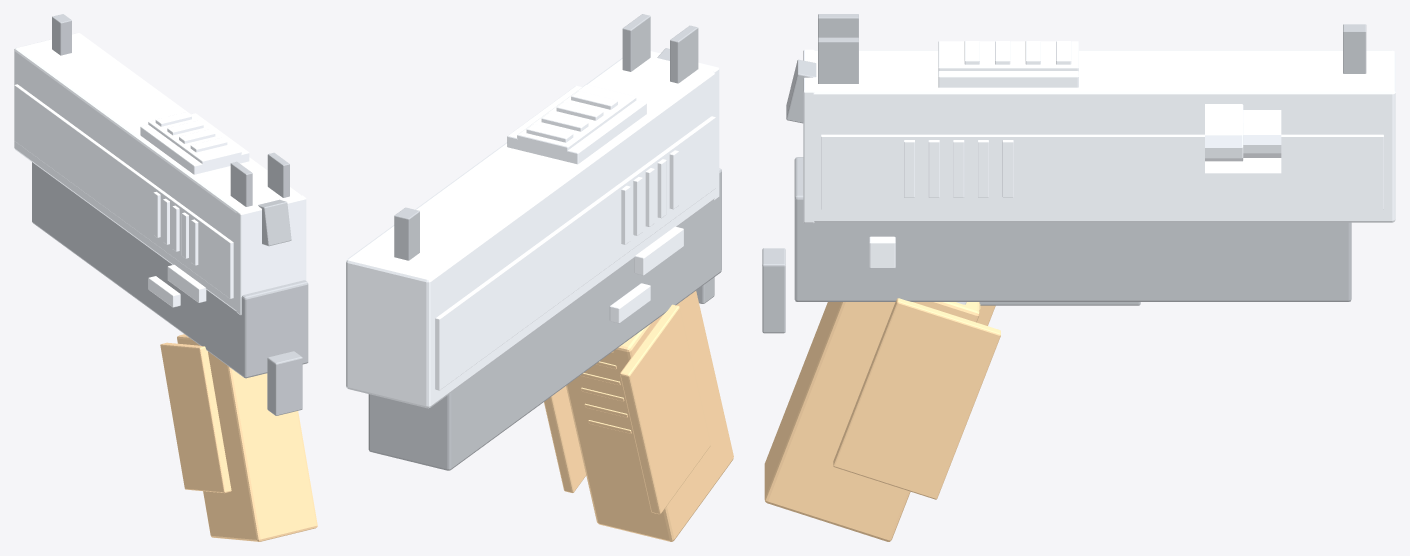
The picture shows the model from 3 angles, left to right: view 1: azimuth 30°, elevation 25°; view 2: azimuth 150°, elevation 25°; view 3: azimuth 270°, elevation 25°; orthographic projection. The views are drawn at different scales.
Parts seen in each view (by area): view 1: Slide, Frame, Grip, GripPanelL, SlideRail, StockIrons, Beavertail, _HammerSpur, SlideStopLever, TakedownLever; view 2: Slide, Frame, Grip, GripPanelL, SlideRail, StockIrons, GripPanelR, SlideStopLever, TakedownLever, FrontStrap; view 3: Slide, Frame, GripPanelR, Grip, SlideRail, StockIrons, ChamberBlock, Beavertail, Barrel, _HammerSpur, MagRelease.
Boxes of the visible parts, <box> form: Slide: <box>14,33,306,315</box>; Frame: <box>32,162,308,378</box>; Grip: <box>177,334,317,541</box>; GripPanelL: <box>160,342,231,493</box>; SlideRail: <box>140,112,249,174</box>; StockIrons: <box>52,14,289,206</box>; Beavertail: <box>267,351,302,415</box>; _HammerSpur: <box>258,199,291,246</box>; SlideStopLever: <box>167,264,206,302</box>; TakedownLever: <box>148,276,180,307</box>; Slide: <box>346,51,719,408</box>; Frame: <box>368,168,721,470</box>; Grip: <box>566,291,733,541</box>; GripPanelL: <box>620,304,710,514</box>; SlideRail: <box>507,84,646,164</box>; StockIrons: <box>394,14,698,260</box>; GripPanelR: <box>544,386,586,492</box>; SlideStopLever: <box>634,226,683,275</box>; TakedownLever: <box>609,283,650,323</box>; FrontStrap: <box>580,351,631,433</box>; Slide: <box>803,49,1395,223</box>; Frame: <box>794,157,1351,301</box>; GripPanelR: <box>833,298,1000,499</box>; Grip: <box>764,302,979,541</box>; SlideRail: <box>938,41,1078,87</box>; StockIrons: <box>818,14,1366,83</box>; ChamberBlock: <box>1205,104,1243,161</box>; Beavertail: <box>762,248,785,333</box>; Barrel: <box>1243,110,1281,157</box>; _HammerSpur: <box>786,59,816,123</box>; MagRelease: <box>869,236,895,268</box>.
Size of the model in its own units: 0.0415 by 0.1868 by 0.216.
